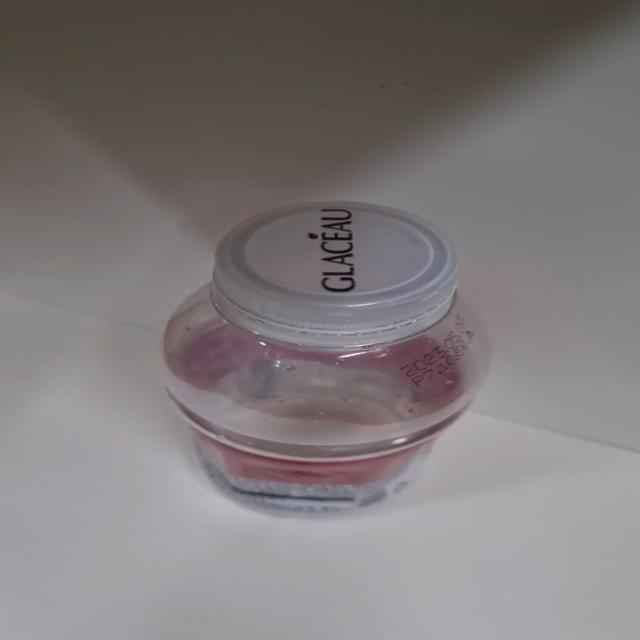Plastic: (158, 200, 494, 520)
